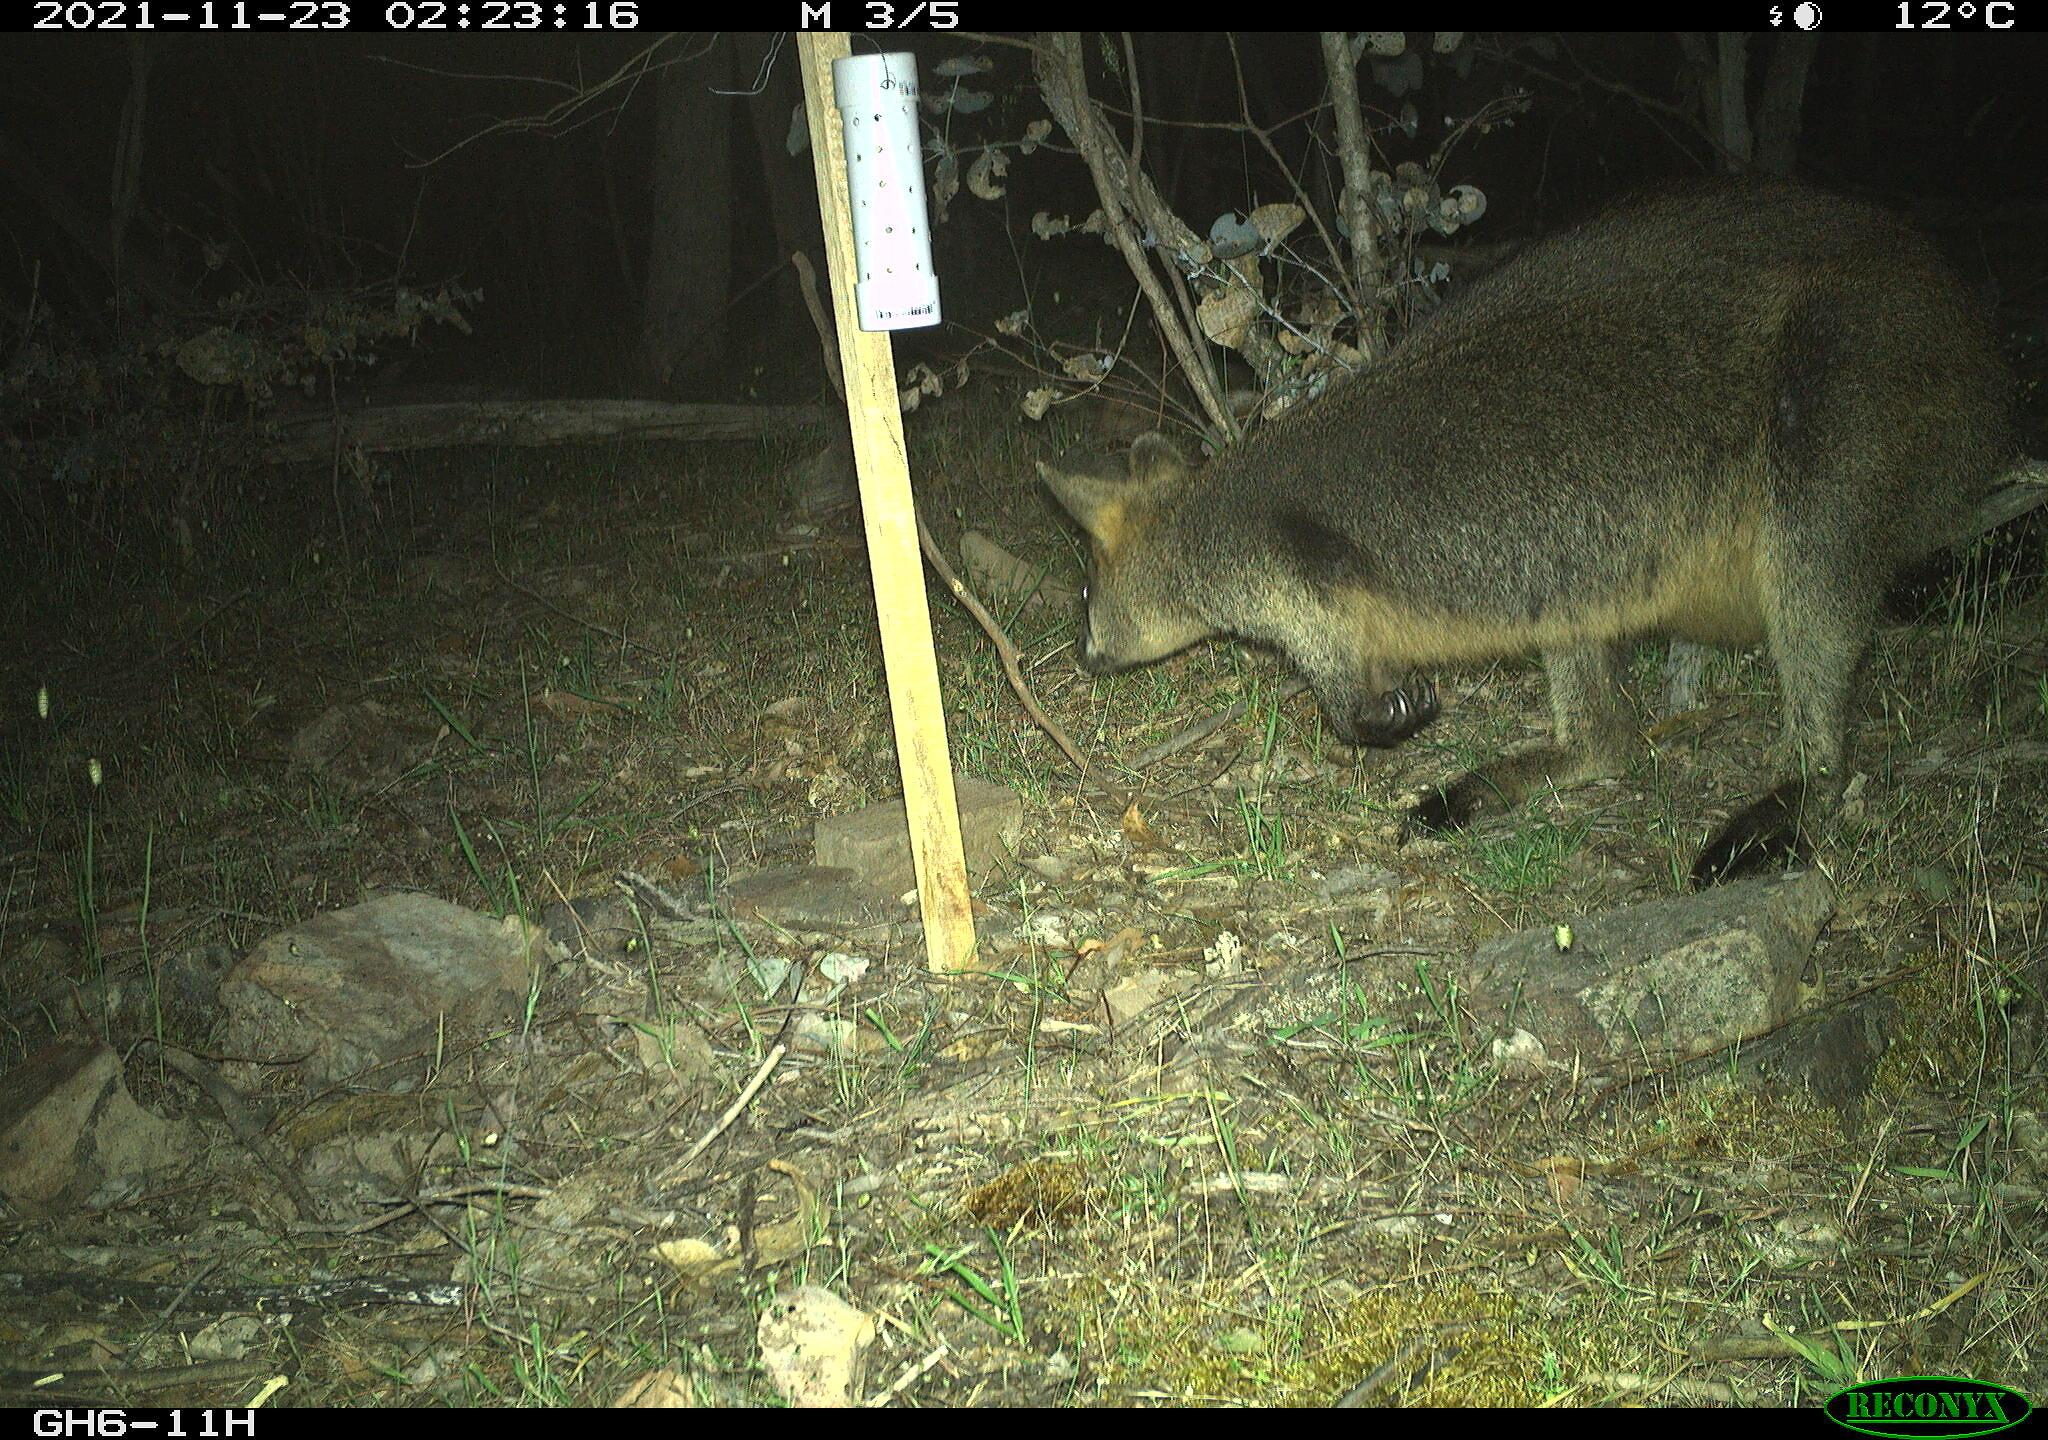Swamp wallaby: (1035, 185, 2048, 902)
